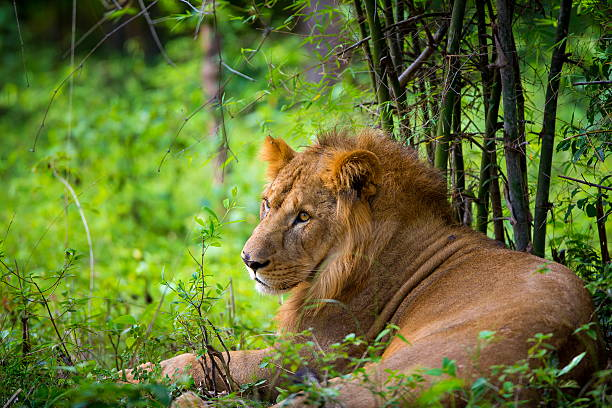lion: (234, 128, 459, 349)
